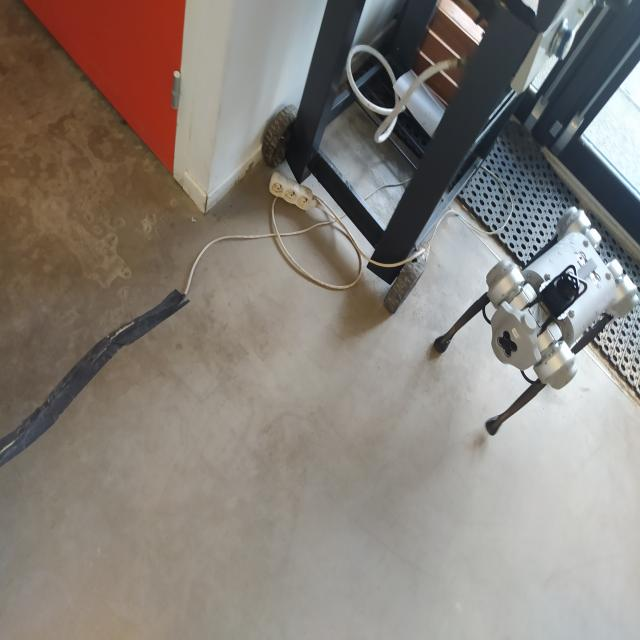unitree-go1-robot: (424, 189, 640, 456)
